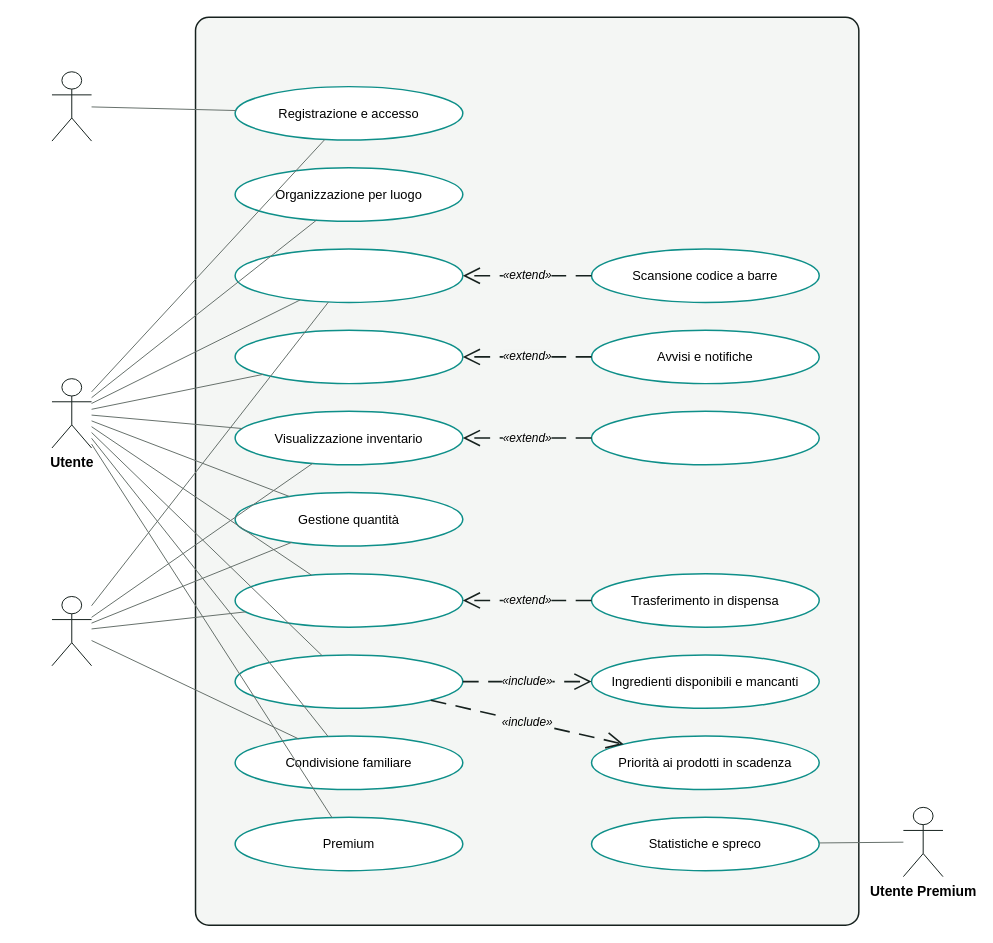
Image size: 993x943. Some labels were removed from this diagram. Here are the shapes that lost their labels. From the top down, the centre of each, then its label:
pixel 71 106: Visitatore
pixel 348 275: Aggiunta manuale prodotti
pixel 348 356: Date di scadenza
pixel 705 437: Ricerca e ordinamento
pixel 348 600: Lista della spesa
pixel 71 630: Membro famiglia
pixel 348 681: Suggerimento ricette
